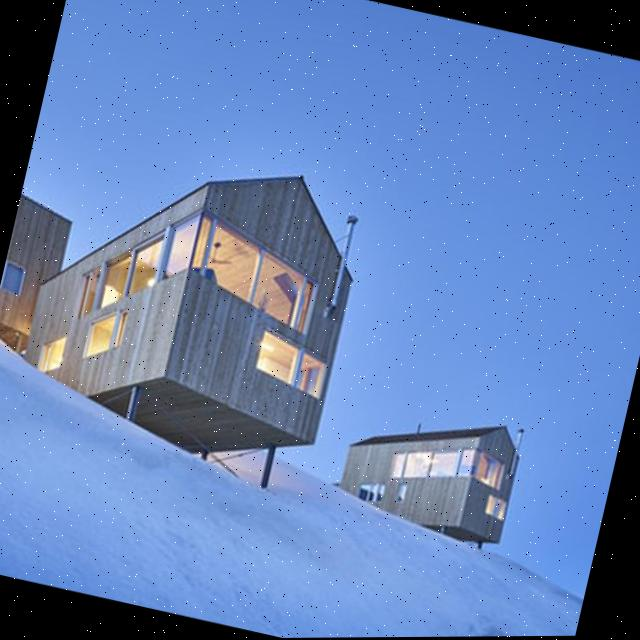building: (0, 116, 380, 505), (324, 381, 536, 570)
